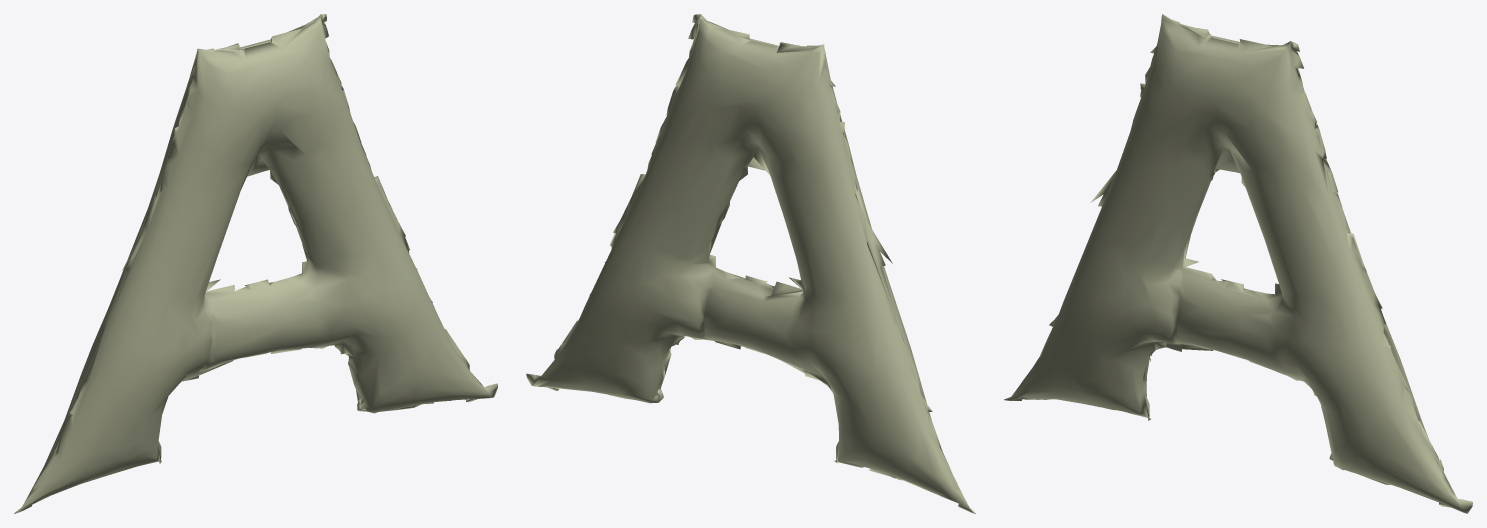
File: tinker.obj
The picture shows the model from 3 angles, left to right: view 1: azimuth 30°, elevation 25°; view 2: azimuth 150°, elevation 25°; view 3: azimuth 330°, elevation 25°; orthographic projection. The views are drawn at different scales.
Parts seen in each view (by area): view 1: obj_0.001; view 2: obj_0.001; view 3: obj_0.001.
Part boxes in pixels (box(x1,y1,x2,y2)): obj_0.001: box(14, 14, 497, 513); obj_0.001: box(526, 14, 975, 513); obj_0.001: box(1004, 14, 1472, 513).
Size of the model in its own units: 18.29 by 16.1 by 2.83.
